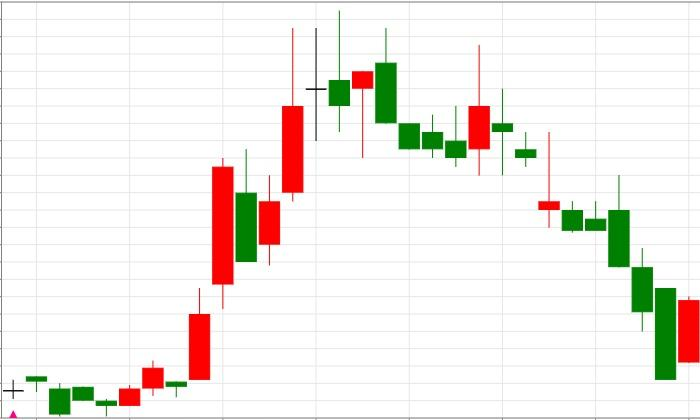hanging_man_fall: (189, 9, 374, 381)
